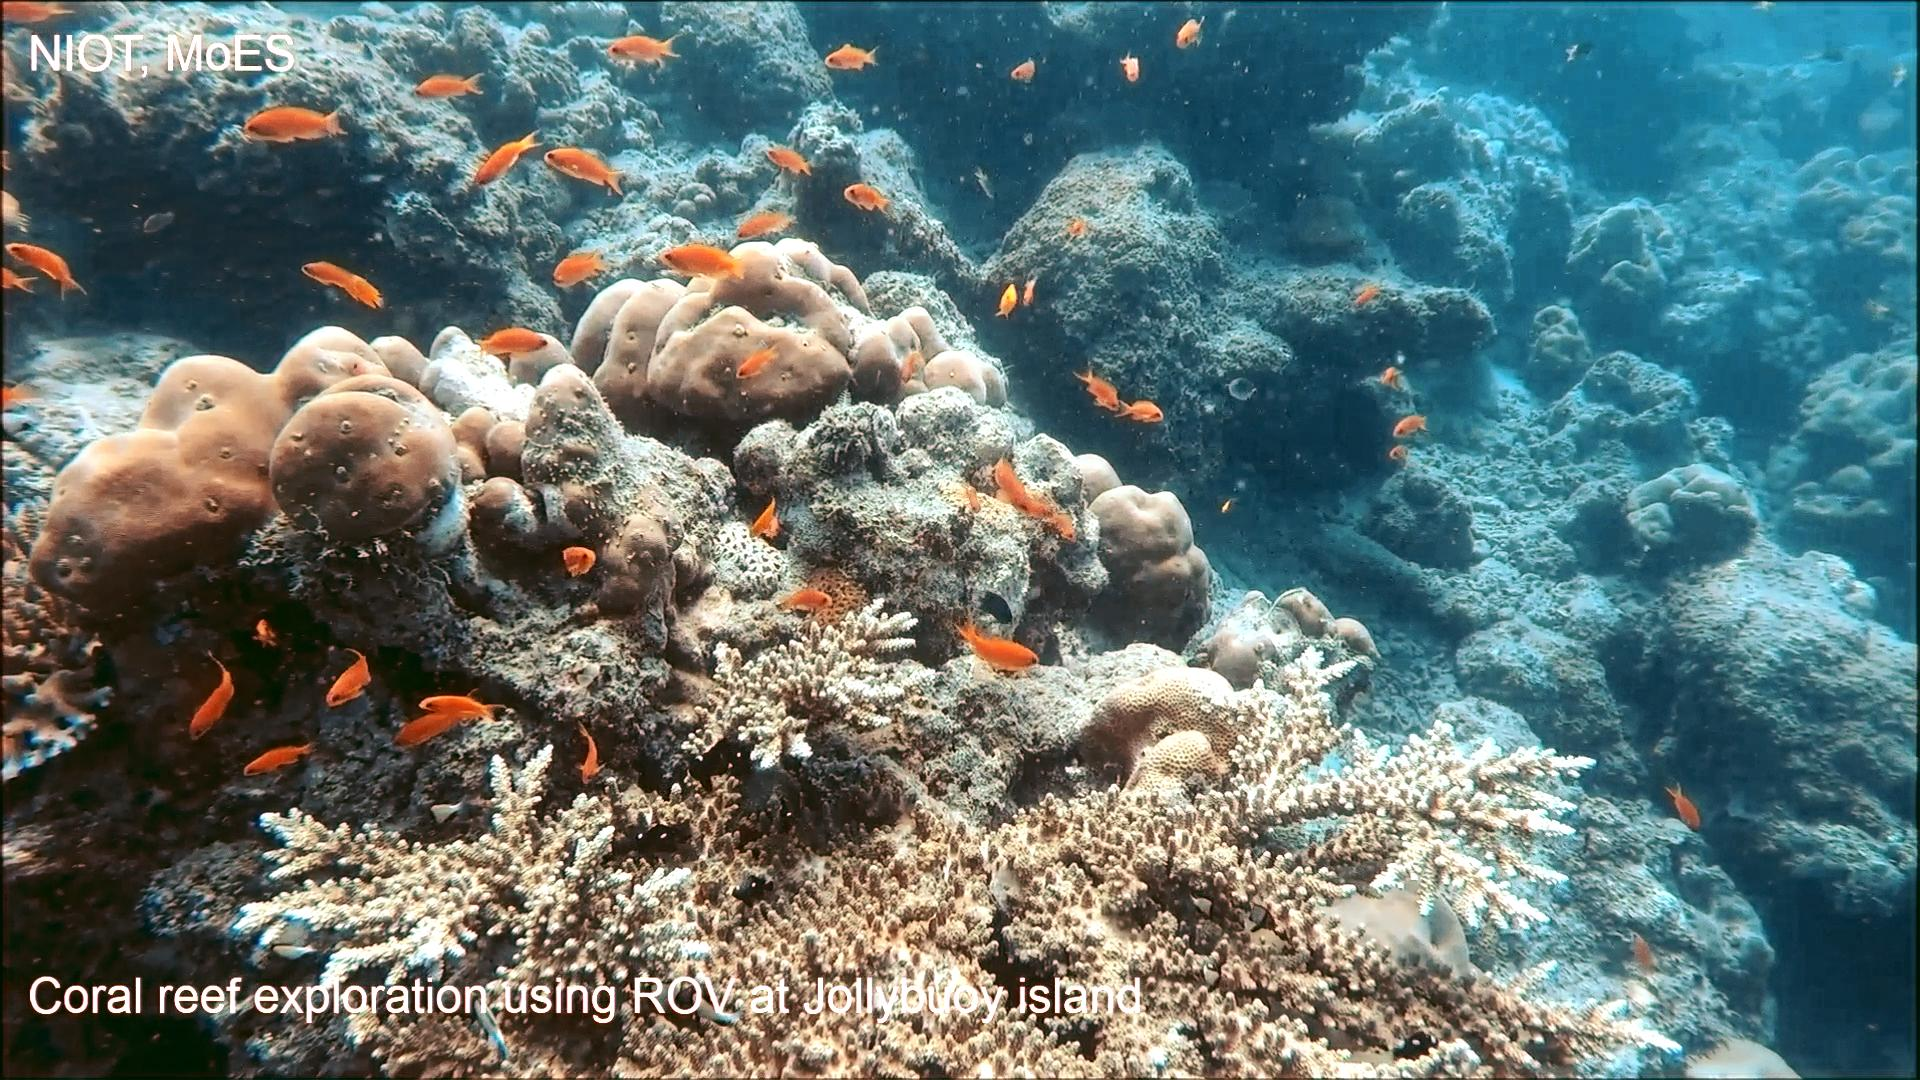Porites-Porites pukoensis: (16, 316, 467, 628), (568, 224, 1015, 439)
